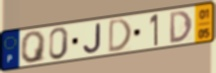0: (48, 26, 70, 61)
1: (149, 13, 159, 47)
D: (107, 17, 133, 55), (169, 9, 194, 45)
J: (81, 22, 103, 55)
Q: (19, 30, 48, 65)
